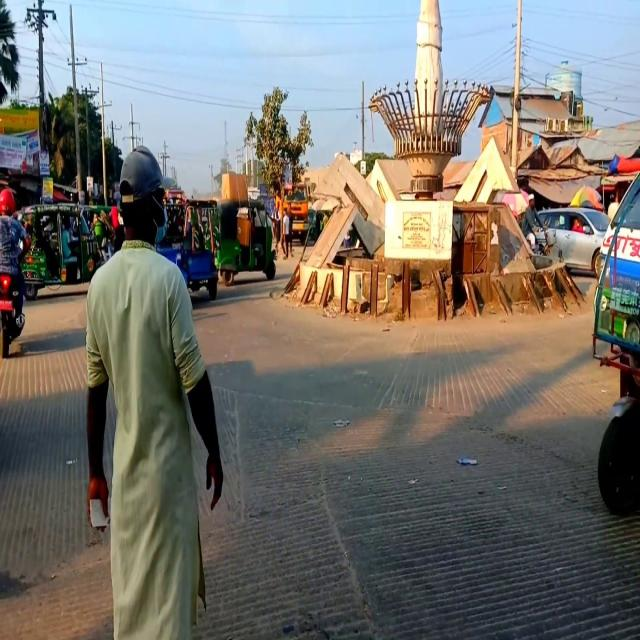silver: (534, 200, 609, 278)
